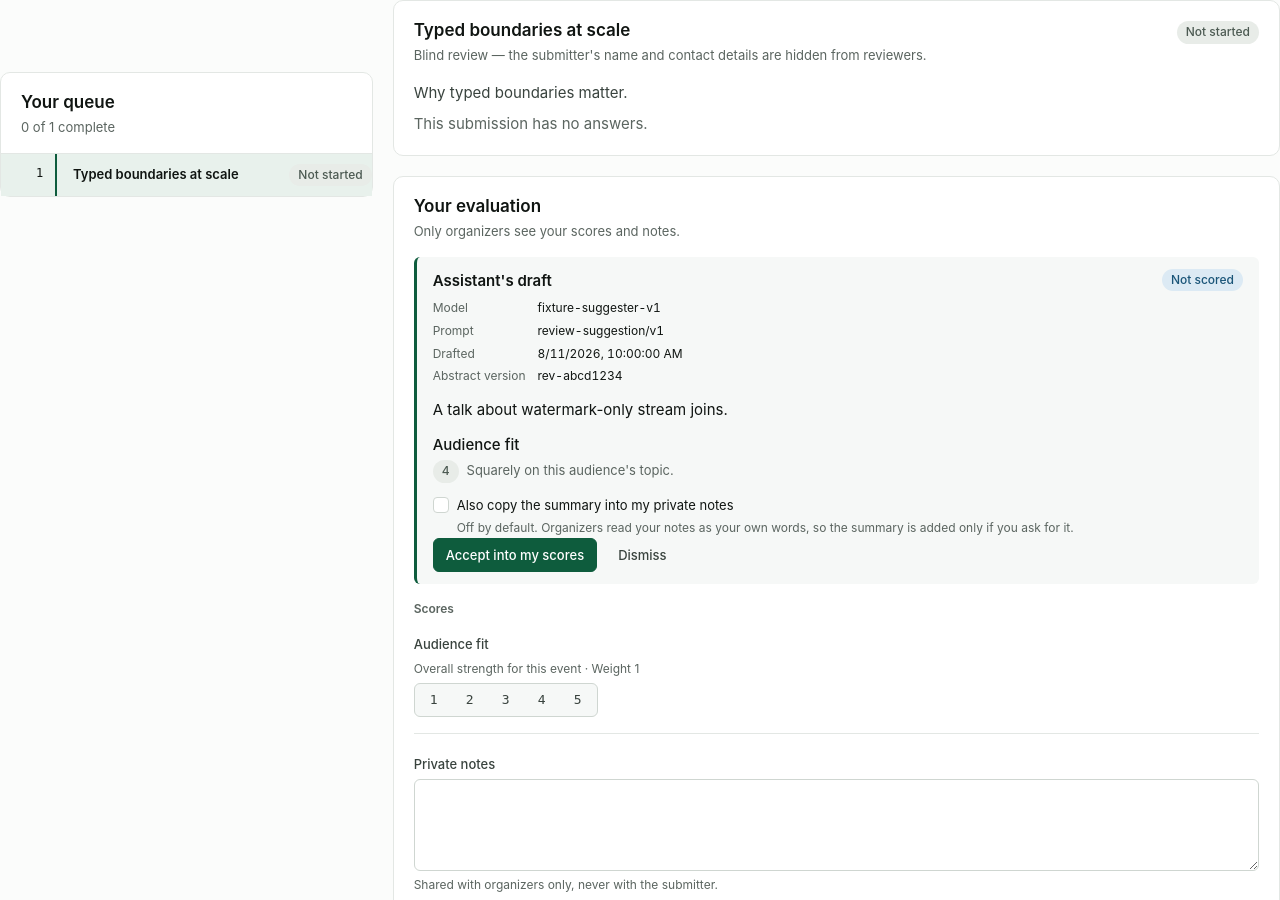
Test: the assistant's draft › fills the reviewer's form on accept without submitting it
Click the button "Accept into my scores": (515, 555) 433,538 -> 597,572
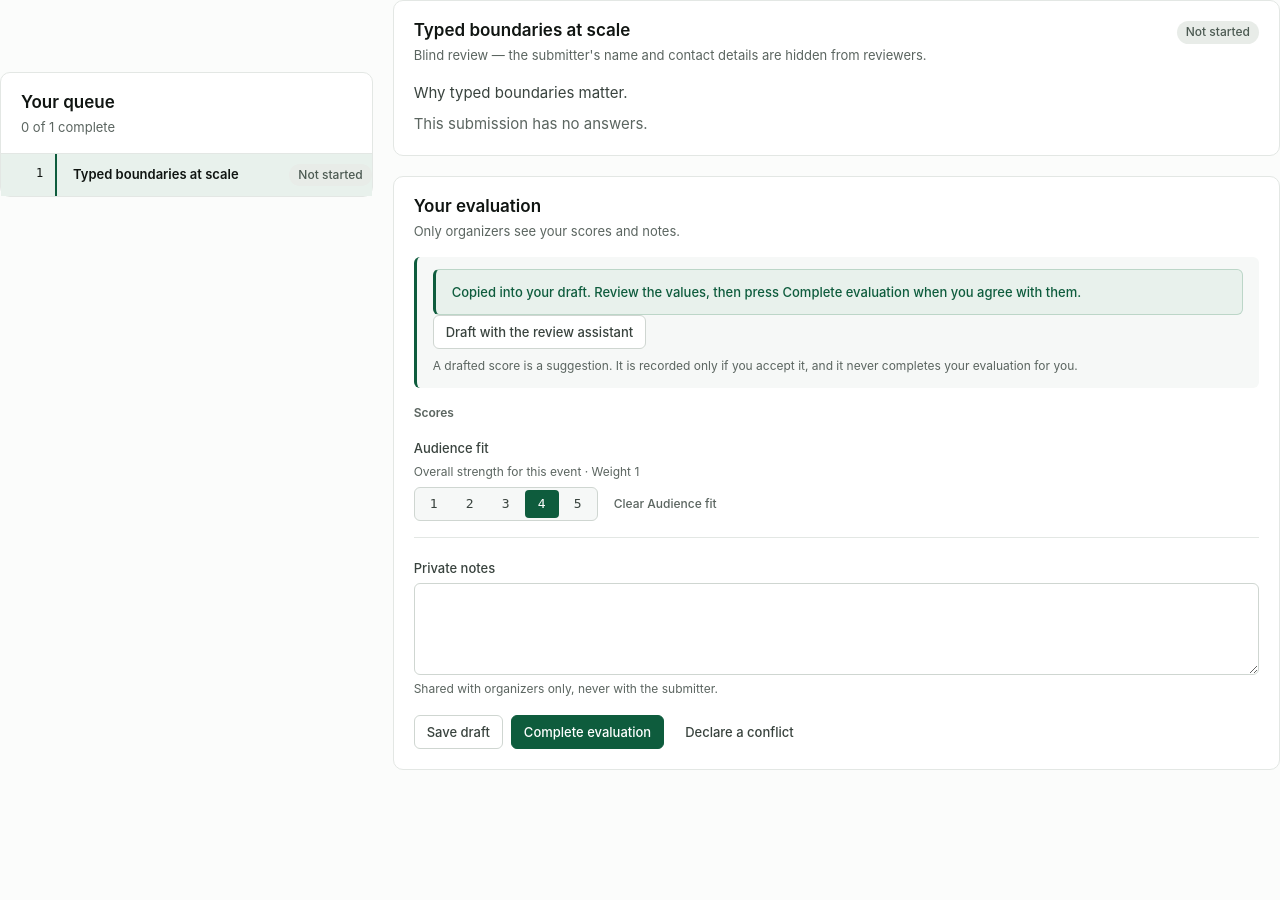
Expected: the button "Complete evaluation" is shown, 511,715 -> 664,749
Expected: the text "press Complete evaluation when you agree with them" is shown, 452,284 -> 1081,300
